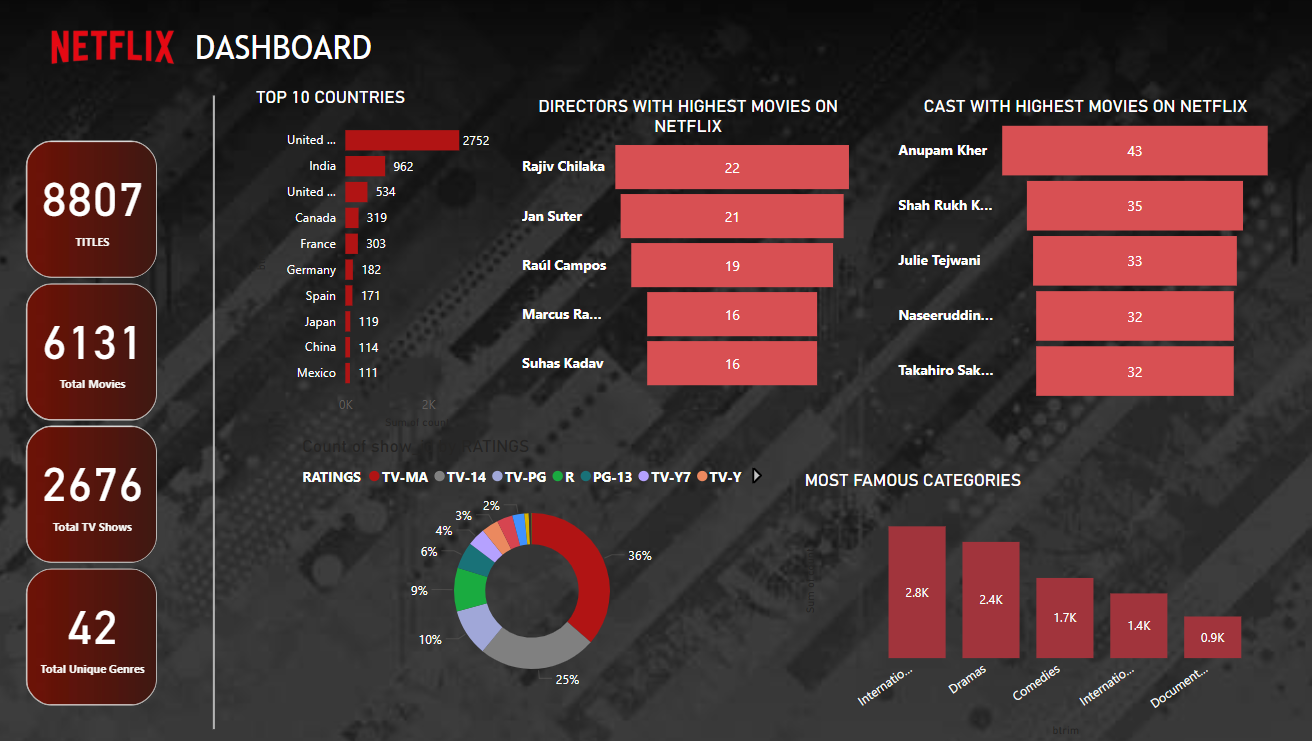

What the dashboard file says about the page in this screenshot:
{"tool":"powerbi","page":{"name":"Page 1","canvas":[1280,720],"ordinal":0},"visuals":[{"type":"image","box":[0,0,233.6,94.4],"z":0},{"type":"textbox","box":[191.3,24.2,253,50.8],"z":1000},{"type":"clusteredBarChart","title":"TOP 10 COUNTRIES","fields":{"Category":["public top_10_countries.btrim"],"Y":["public top_10_countries.count"]},"box":[250.6,85.9,243.3,336.5],"z":2000},{"type":"cardVisual","fields":{"Data":["public netflix.COUNT OF TITLES","public netflix.Total Movies","public netflix.Total TV SHOWS","public all_categories.TOTAL CATEORES"]},"box":[27.8,133.2,138,560.5],"z":3000},{"type":"shape","box":[117.4,94.4,194.9,613.7],"z":4000},{"type":"donutChart","fields":{"Category":["public netflix.rating"],"Y":["public netflix.show_id"]},"box":[295,424,455.6,252.5],"z":5000},{"type":"columnChart","title":"MOST FAMOUS CATEGORIES","fields":{"Category":["public all_categories.btrim"],"Y":["public all_categories.count"]},"box":[782,456.4,463.6,263.9],"z":6000},{"type":"funnel","title":"DIRECTORS WITH HIGHEST MOVIES ON NETFLIX","fields":{"Category":["public famous_director.btrim"],"Y":["public famous_director.count"]},"box":[508.4,94.4,331.7,290.5],"z":6001},{"type":"funnel","title":"CAST WITH HIGHEST MOVIES ON NETFLIX","fields":{"Category":["public famous_casts.btrim"],"Y":["public famous_casts.count"]},"box":[872.8,94.4,372.8,301.4],"z":6002}]}

Visuals, with their boxes in screenshot pixels (x1, y1, x2, y2), scaled from the page's 1280x720 canvas onto the 1312x741 screenshot:
image: rect(0, 0, 239, 97)
textbox: rect(196, 25, 455, 77)
"TOP 10 COUNTRIES" clusteredBarChart: rect(257, 88, 506, 435)
cardVisual - public netflix.COUNT OF TITLES x public netflix.Total Movies: rect(28, 137, 170, 714)
shape: rect(120, 97, 320, 729)
donutChart - public netflix.rating x public netflix.show_id: rect(302, 436, 769, 696)
"MOST FAMOUS CATEGORIES" columnChart: rect(802, 470, 1277, 740)
"DIRECTORS WITH HIGHEST MOVIES ON NETFLIX" funnel: rect(521, 97, 861, 396)
"CAST WITH HIGHEST MOVIES ON NETFLIX" funnel: rect(895, 97, 1277, 407)
